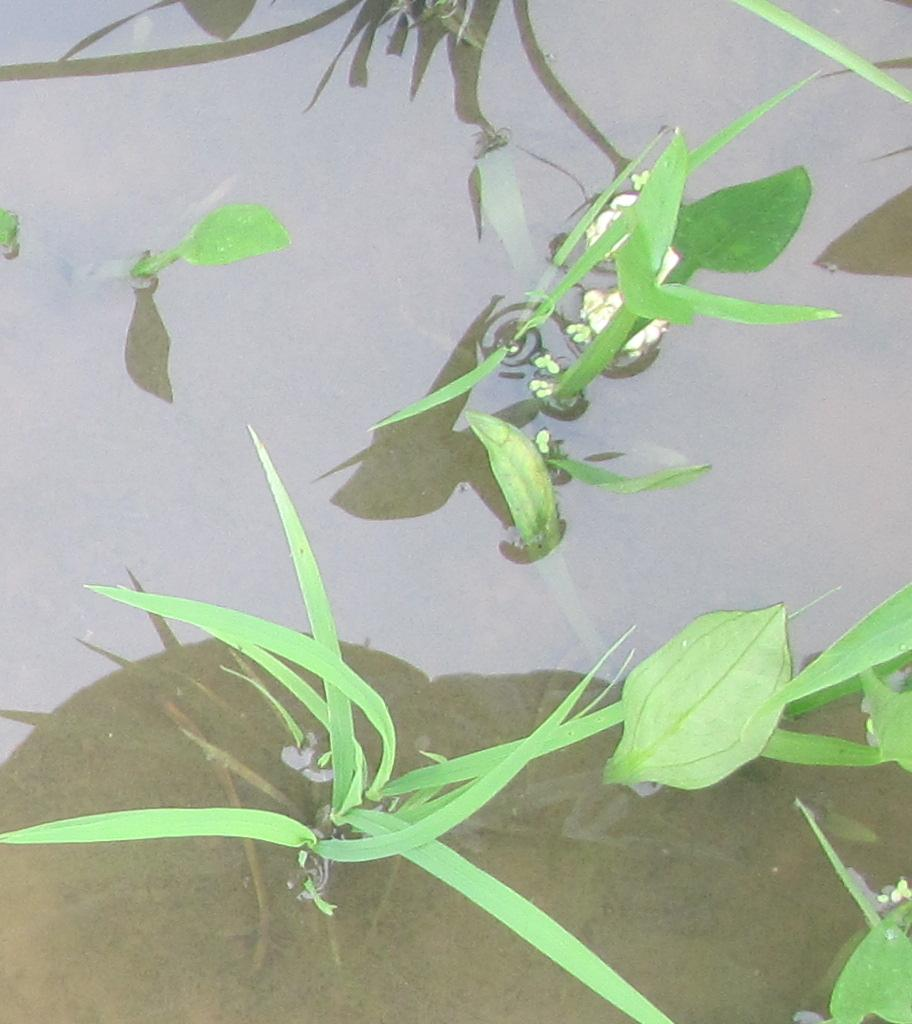Weed: (599, 127, 814, 366), (616, 605, 800, 796), (164, 192, 314, 272)
